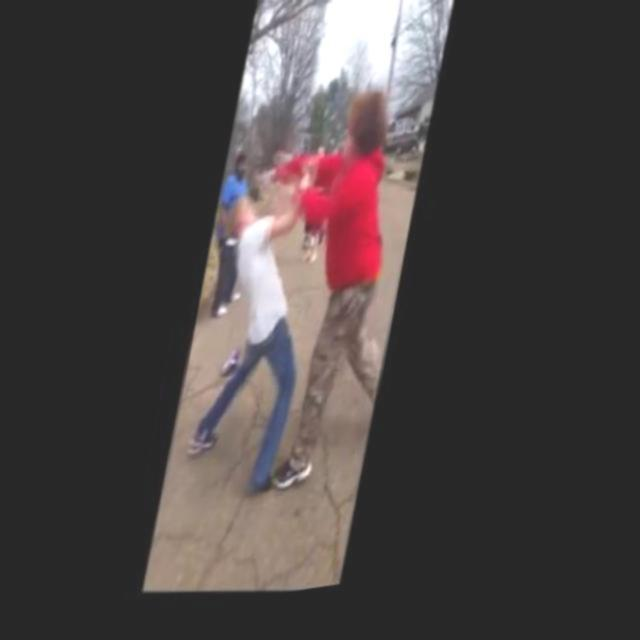fight: (185, 88, 426, 521)
